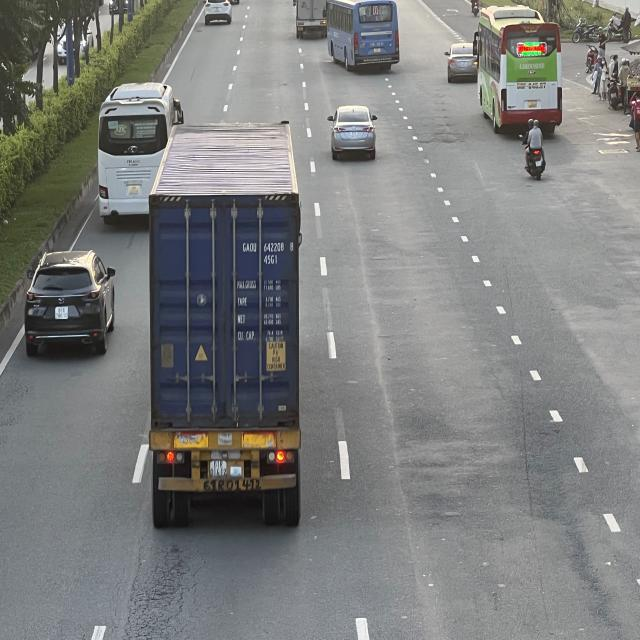car: (24, 250, 118, 357), (328, 106, 381, 164), (446, 43, 480, 84), (204, 0, 233, 25)
coach: (98, 83, 187, 222), (473, 9, 560, 136), (324, 0, 399, 69)
container: (146, 116, 300, 514)
truck: (294, 0, 326, 39)
